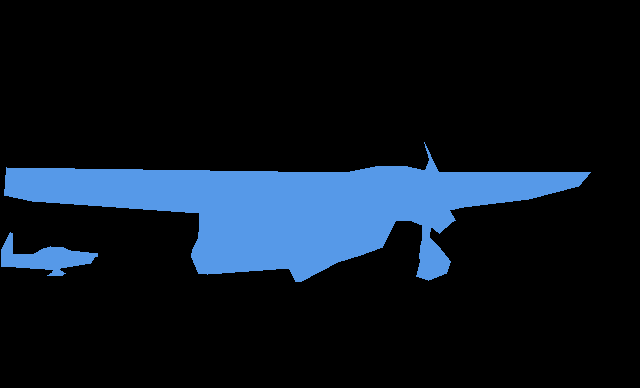Airplane: (4, 142, 590, 282), (1, 232, 98, 276)
